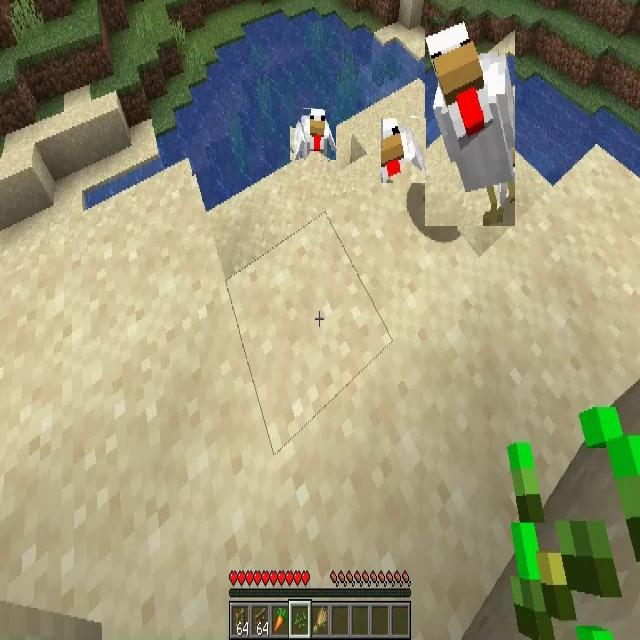duck: (425, 18, 515, 226), (381, 118, 426, 183), (290, 109, 336, 160)
